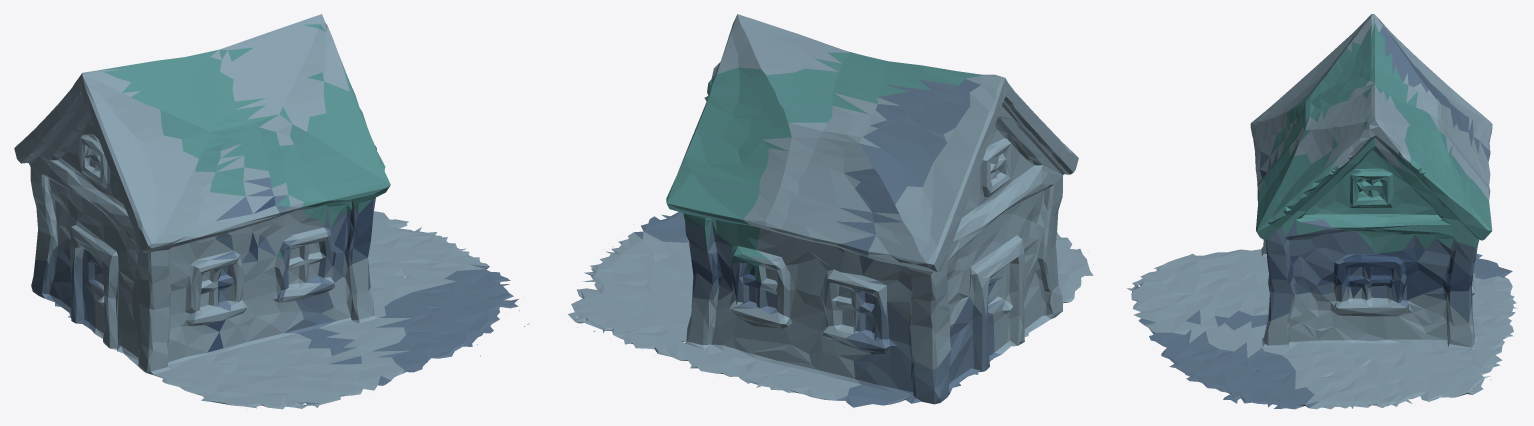
Rendered from cottage.glb.
3 renders of one model, left to right at view 1: azimuth 30°, elevation 25°; view 2: azimuth 150°, elevation 25°; view 3: azimuth 270°, elevation 25°, orthographic. The views are drawn at different scales.
Parts seen in each view (by area): view 1: geometry_0; view 2: geometry_0; view 3: geometry_0.
Part boxes in pixels (bbox=[...]): geometry_0: bbox=[14, 14, 529, 409]; geometry_0: bbox=[568, 14, 1093, 407]; geometry_0: bbox=[1127, 14, 1517, 409].
Size of the model in its own units: 1.98 by 1.29 by 1.98.
